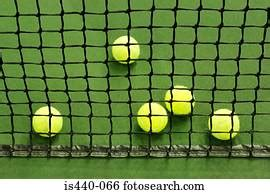tennis_ball: (208, 108, 240, 140), (164, 85, 195, 115), (32, 107, 63, 137), (137, 103, 168, 132), (112, 36, 140, 64)
